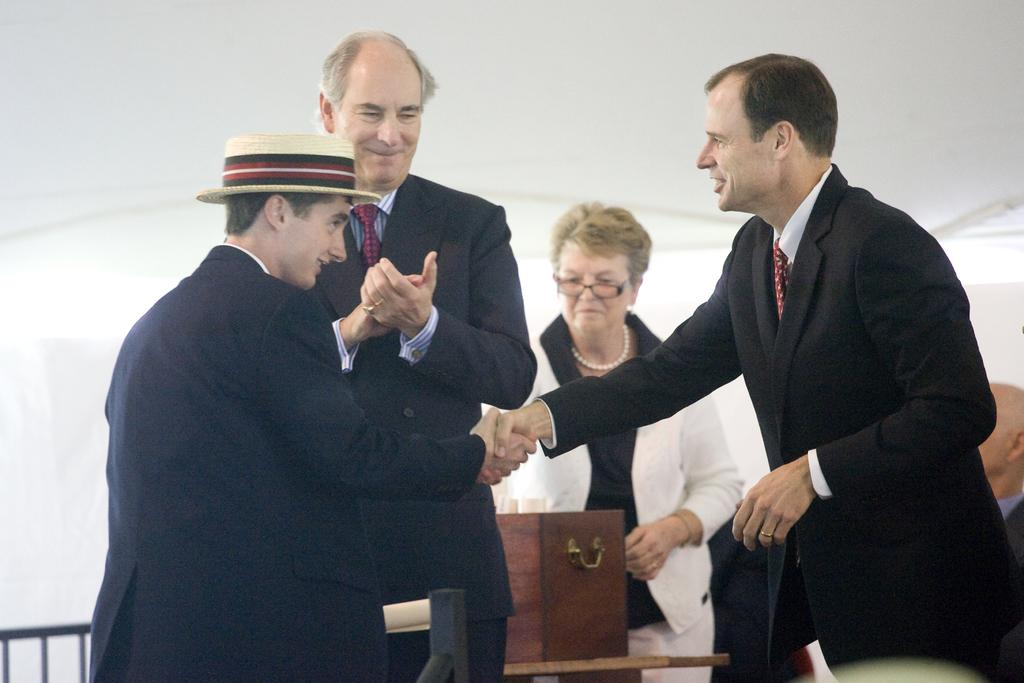Hat: (192, 130, 381, 209)
